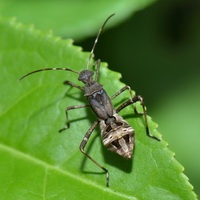insect: (18, 14, 159, 186)
